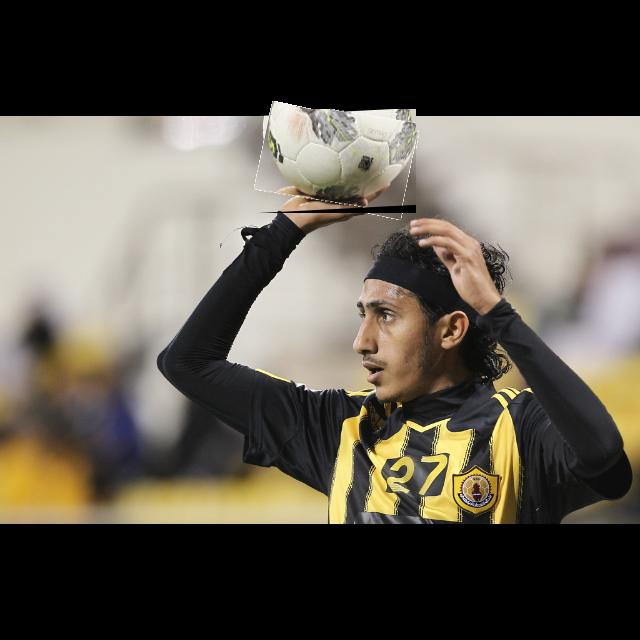Football: (258, 109, 416, 213)
